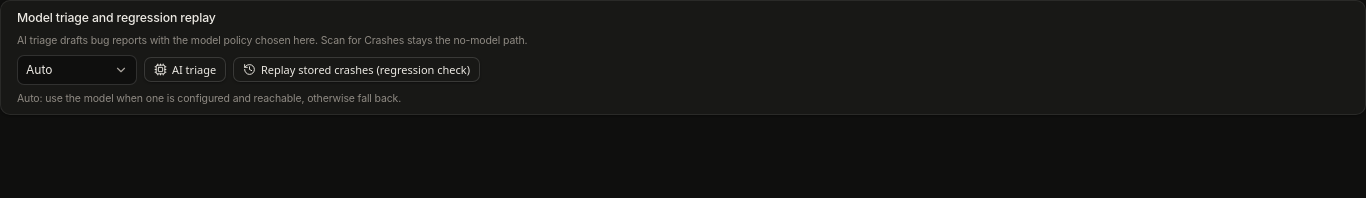
Test: renders each stored-crash replay result with the CLI's counts
The width and height of the screenshot is (1366, 198).
Click the button "Replay stored crashes (regression check)". click: (356, 70)
box: [233,57,480,82]
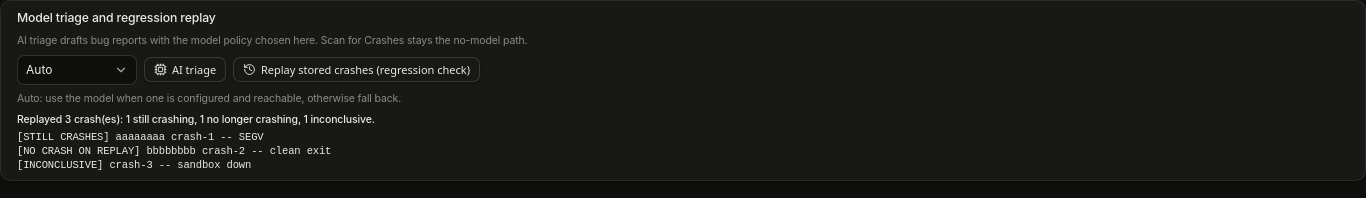
Result: the element with test id "regression-results" shows "Replayed 3 crash(es): 1 still crashing, 1 no longer crashing, 1 inconclusive." at [17,112,375,126]
Result: the element with test id "regression-results" shows "[STILL CRASHES] aaaaaaaa crash-1 -- SEGV" at [17,112,375,171]
Result: the element with test id "regression-results" shows "[NO CRASH ON REPLAY] bbbbbbbb crash-2 -- clean exit" at [17,112,375,171]
